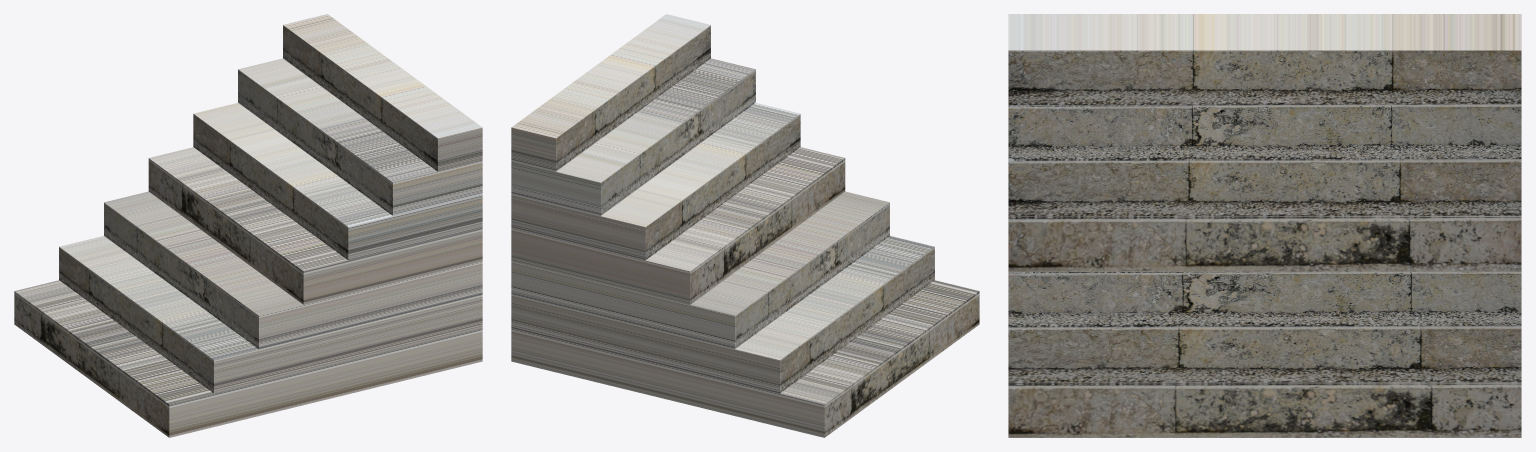
The model's file is kaidan.fbx.
3 renders of one model, left to right at view 1: azimuth 30°, elevation 25°; view 2: azimuth 150°, elevation 25°; view 3: azimuth 270°, elevation 25°, orthographic. The views are drawn at different scales.
Parts seen in each view (by area): view 1: kaidan; view 2: kaidan; view 3: kaidan.
Boxes of the visible parts, x1,y1,x2,y2 form: kaidan: [14, 14, 482, 437]; kaidan: [511, 14, 979, 437]; kaidan: [1008, 14, 1521, 437].
Bounding box in the file's own units: 21 × 15 × 18.
Materials: 1 (1 with a texture image).
